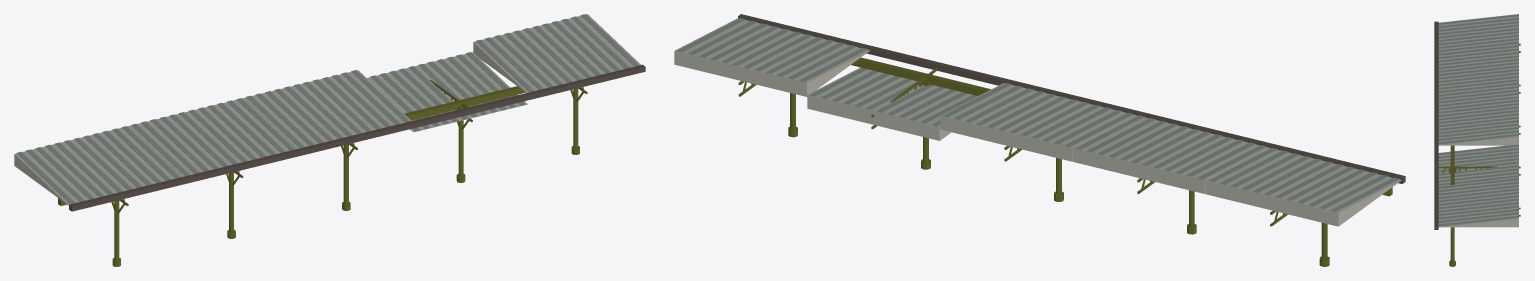
The model's file is SM_marquesina_v2_LOD0.fbx.
3 renders of one model, left to right at view 1: azimuth 30°, elevation 25°; view 2: azimuth 150°, elevation 25°; view 3: azimuth 270°, elevation 25°, orthographic. The views are drawn at different scales.
Visible parts, largest first — view 1: SM_bloques.marquesina_v2_LOD0; view 2: SM_bloques.marquesina_v2_LOD0; view 3: SM_bloques.marquesina_v2_LOD0.
Part boxes in pixels (x1,y1,x2,y2): SM_bloques.marquesina_v2_LOD0: (14,14,645,266); SM_bloques.marquesina_v2_LOD0: (674,14,1405,266); SM_bloques.marquesina_v2_LOD0: (1434,14,1520,266).
Bounding box in the file's own units: 30 × 4.63 × 5.32.
